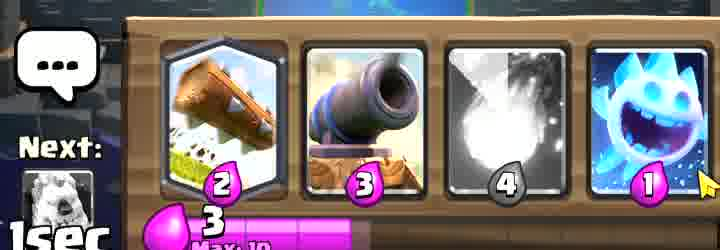cannon: (312, 48, 427, 197)
ice-spirit: (594, 45, 710, 201)
log: (167, 42, 280, 188)
